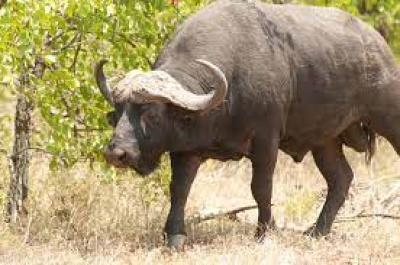buffalo: (96, 0, 399, 248)
